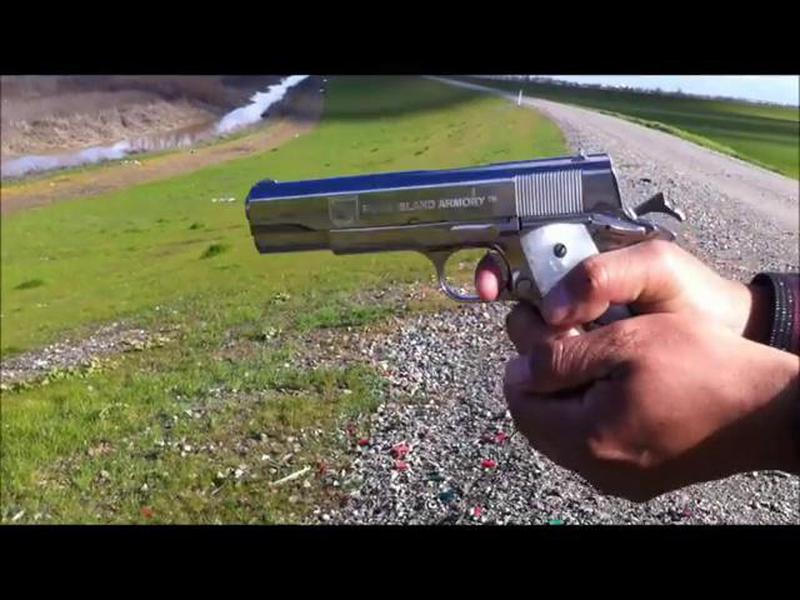Pistola: (227, 116, 672, 344)
